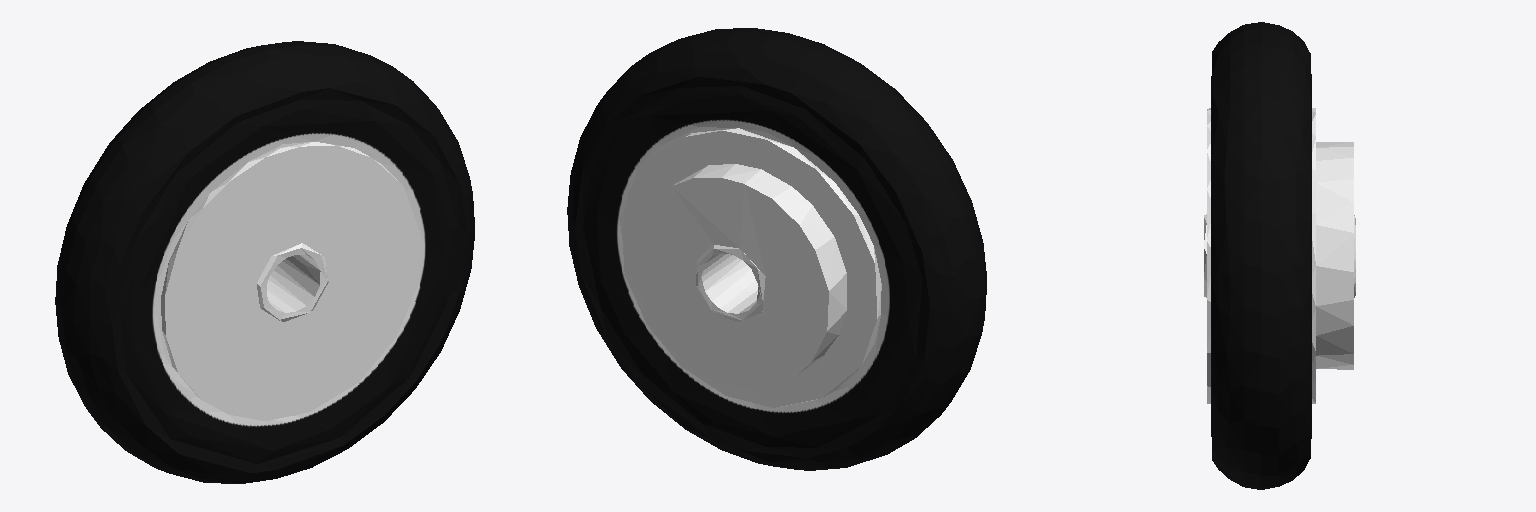
3 views of the same model, side by side, from view 1: azimuth 30°, elevation 25°; view 2: azimuth 150°, elevation 25°; view 3: azimuth 270°, elevation 25° (orthographic).
Parts seen in each view (by area): view 1: /ambf/env/pr2/fl_caster_l_wheel_link_/ambf/env/pr2/fl_caster_l_w; view 2: /ambf/env/pr2/fl_caster_l_wheel_link_/ambf/env/pr2/fl_caster_l_w; view 3: /ambf/env/pr2/fl_caster_l_wheel_link_/ambf/env/pr2/fl_caster_l_w.
Boxes of the visible parts, <box> form: /ambf/env/pr2/fl_caster_l_wheel_link_/ambf/env/pr2/fl_caster_l_w: <box>55,41,474,483</box>; /ambf/env/pr2/fl_caster_l_wheel_link_/ambf/env/pr2/fl_caster_l_w: <box>567,28,986,470</box>; /ambf/env/pr2/fl_caster_l_wheel_link_/ambf/env/pr2/fl_caster_l_w: <box>1204,22,1355,489</box>.
Size of the model in its own units: 0.1588 by 0.1588 by 0.0517.
1 materials, 1 textured.